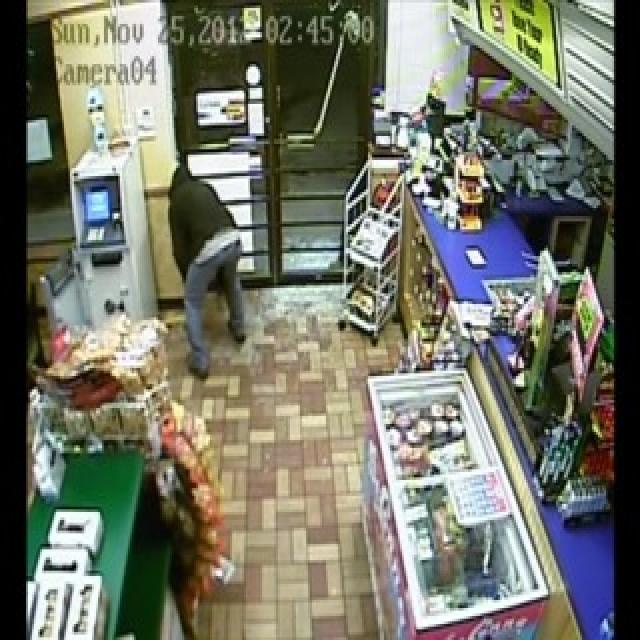thief: (157, 166, 255, 376)
